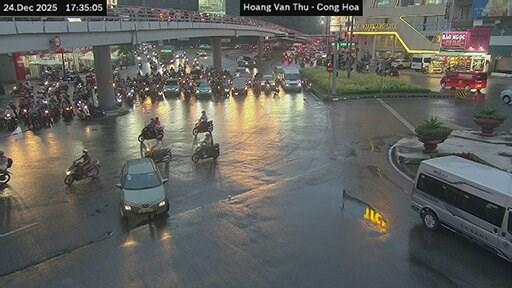motorbike: (64, 160, 99, 184), (192, 144, 218, 162), (137, 126, 163, 142), (144, 148, 169, 162), (0, 157, 12, 184), (192, 120, 213, 135), (76, 103, 90, 120), (3, 112, 16, 130), (88, 104, 105, 117), (28, 113, 41, 130), (41, 108, 53, 126), (61, 104, 73, 120), (19, 107, 28, 125), (263, 82, 272, 94), (387, 67, 399, 76)
